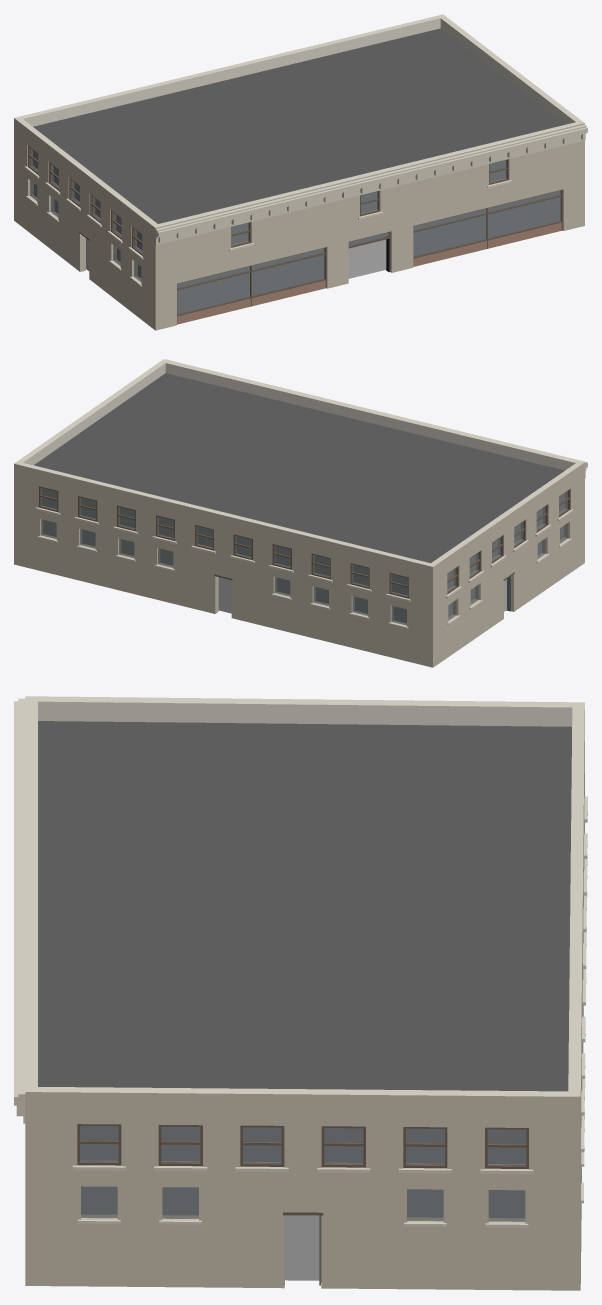
Rendered from exterior.glb.
The picture shows the model from 3 angles, top to bottom: view 1: azimuth 30°, elevation 25°; view 2: azimuth 150°, elevation 25°; view 3: azimuth 270°, elevation 25°; orthographic projection. The views are drawn at different scales.
Visible parts, largest first — view 1: roof, shell, glazing, shadow-proxy, trim, storefront, frames; view 2: shell, roof, glazing, shadow-proxy, frames, trim; view 3: roof, shell, shadow-proxy, glazing, trim, frames.
Boxes of the visible parts, <box> form: roof: <box>33,28,565,223</box>; shell: <box>14,14,584,330</box>; glazing: <box>30,148,561,314</box>; shadow-proxy: <box>33,150,559,313</box>; trim: <box>24,124,587,286</box>; storefront: <box>79,189,562,324</box>; frames: <box>28,146,508,255</box>; shell: <box>14,359,584,667</box>; roof: <box>34,373,564,563</box>; glazing: <box>40,488,567,625</box>; shadow-proxy: <box>42,488,564,623</box>; frames: <box>38,486,570,598</box>; trim: <box>35,359,587,628</box>; roof: <box>38,721,571,1091</box>; shell: <box>25,696,584,1290</box>; shadow-proxy: <box>80,1126,525,1280</box>; glazing: <box>80,1126,526,1221</box>; trim: <box>14,698,587,1227</box>; frames: <box>77,1124,528,1168</box>.
Bounding box in the file's own units: 25.9 × 5.82 × 15.61.
